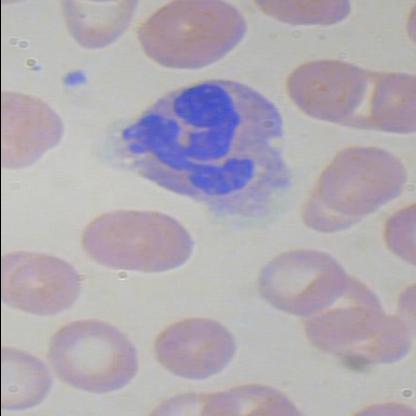Platelets: (50, 64, 92, 95)
RBC: (47, 318, 144, 397), (252, 241, 348, 320), (157, 311, 243, 389), (81, 198, 168, 274), (107, 201, 194, 277), (140, 8, 236, 70), (1, 255, 86, 321), (288, 58, 372, 124), (326, 142, 410, 208), (150, 0, 247, 56), (2, 94, 66, 160)
WBC: (98, 62, 294, 238)
